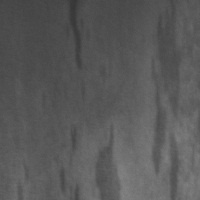inclusion: (150, 3, 194, 199), (94, 120, 125, 200), (63, 1, 91, 74), (57, 160, 84, 199), (11, 160, 33, 199), (66, 122, 83, 170)
